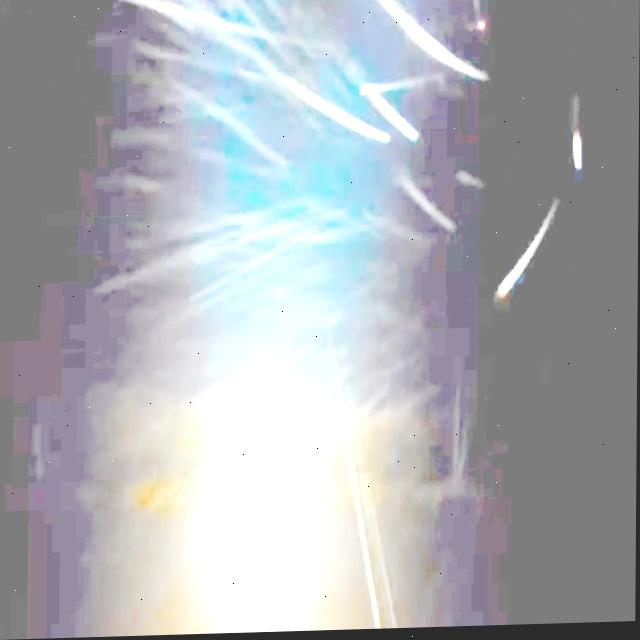wires: (331, 347, 382, 630), (284, 389, 297, 632), (350, 474, 355, 487)
